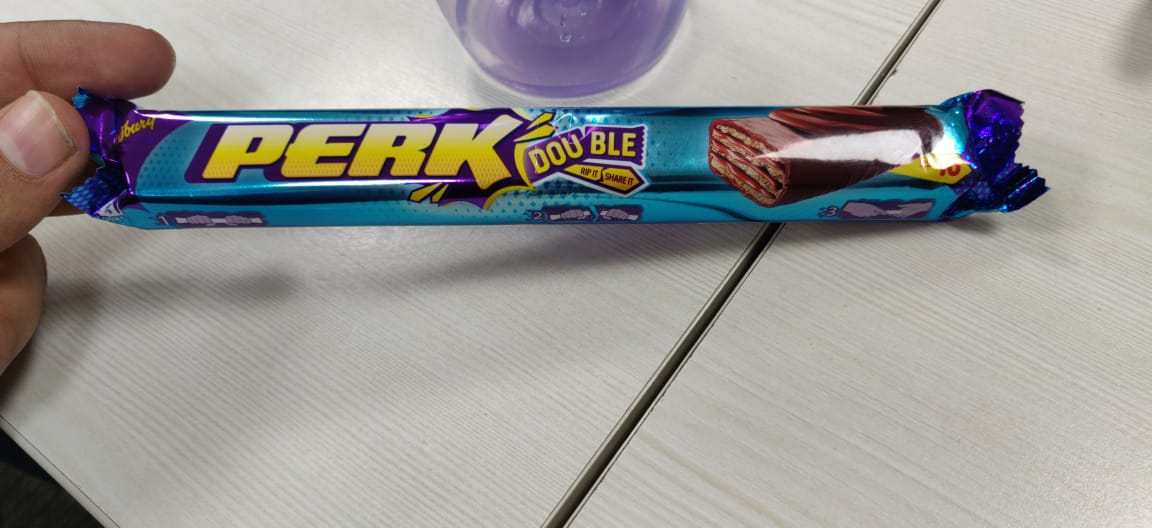perk: (64, 77, 1057, 236)
